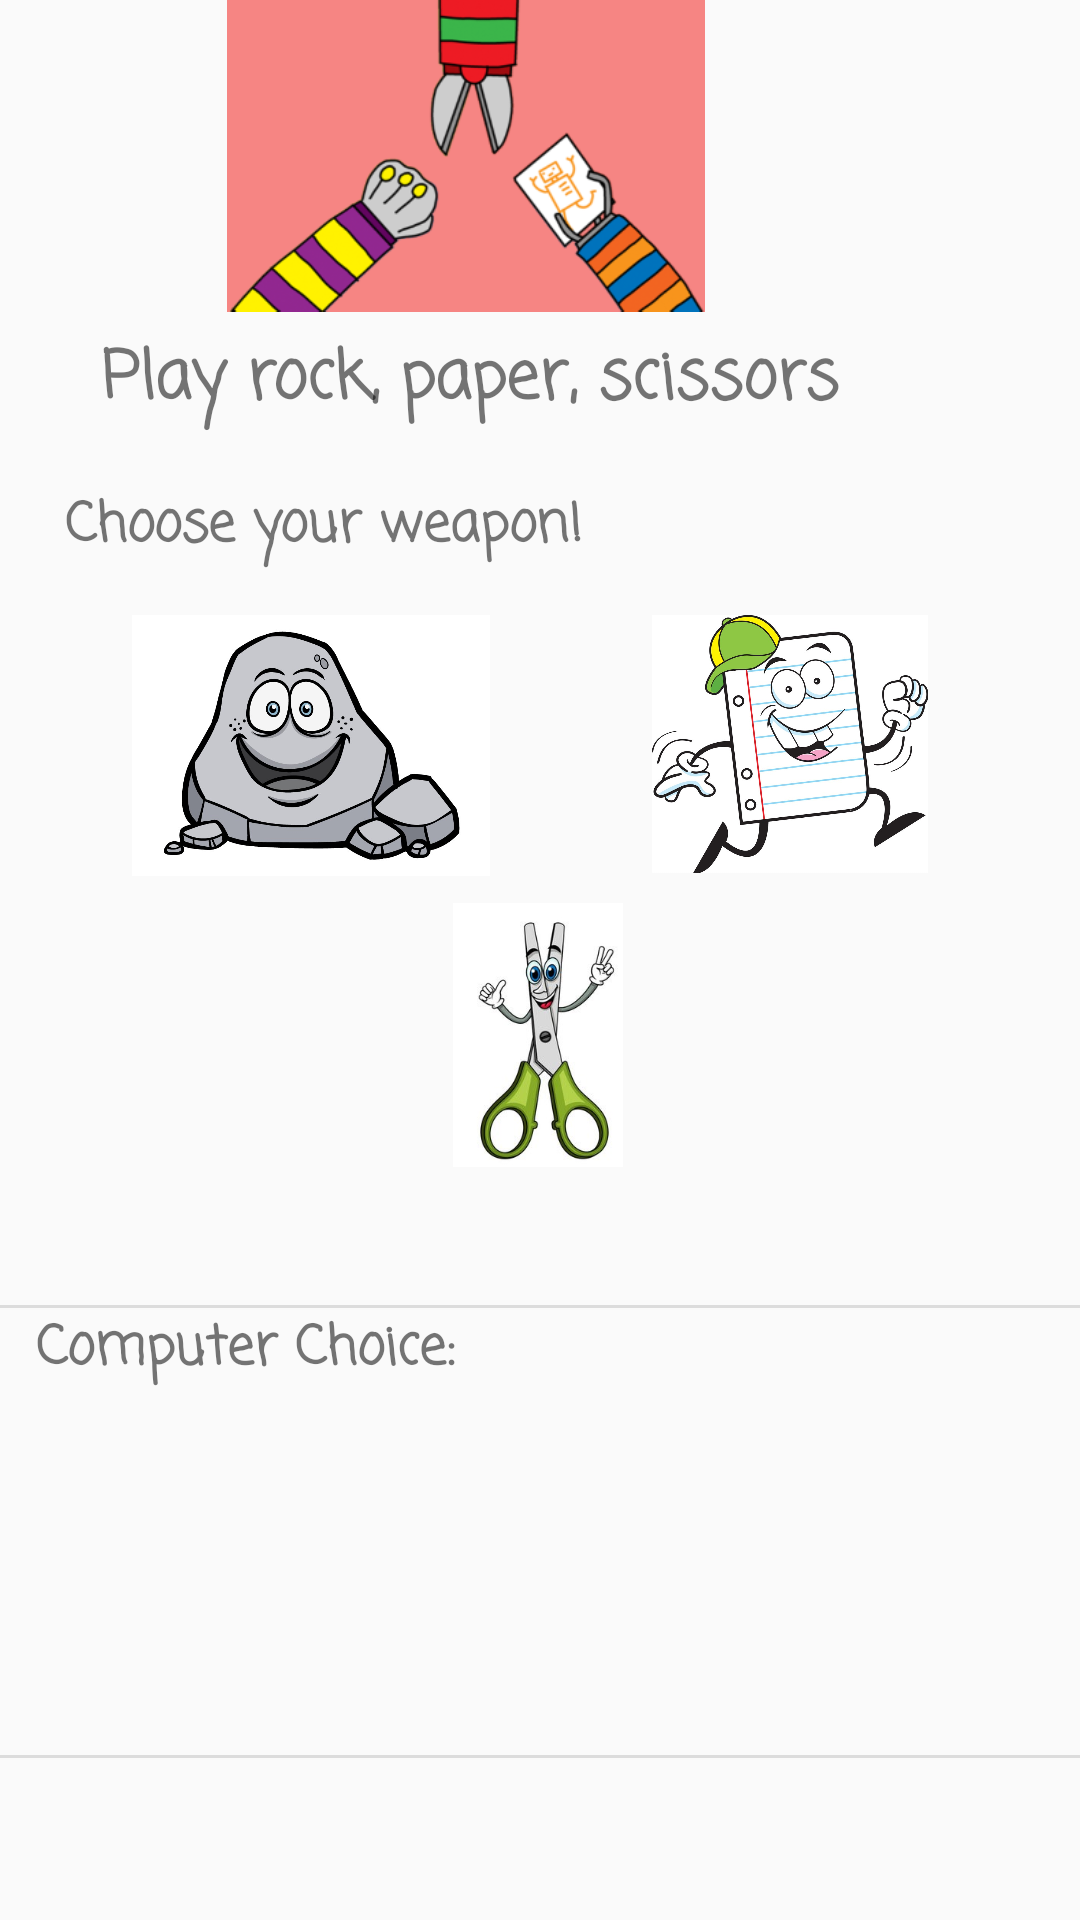

Named icons in this screenshot (1080px x 1920px) and their bounding boxes, box=[x1, y1, x2, y2]:
Paper: box=[652, 615, 928, 873]
Rock: box=[164, 631, 460, 860]
Scissors: box=[478, 922, 614, 1160]
